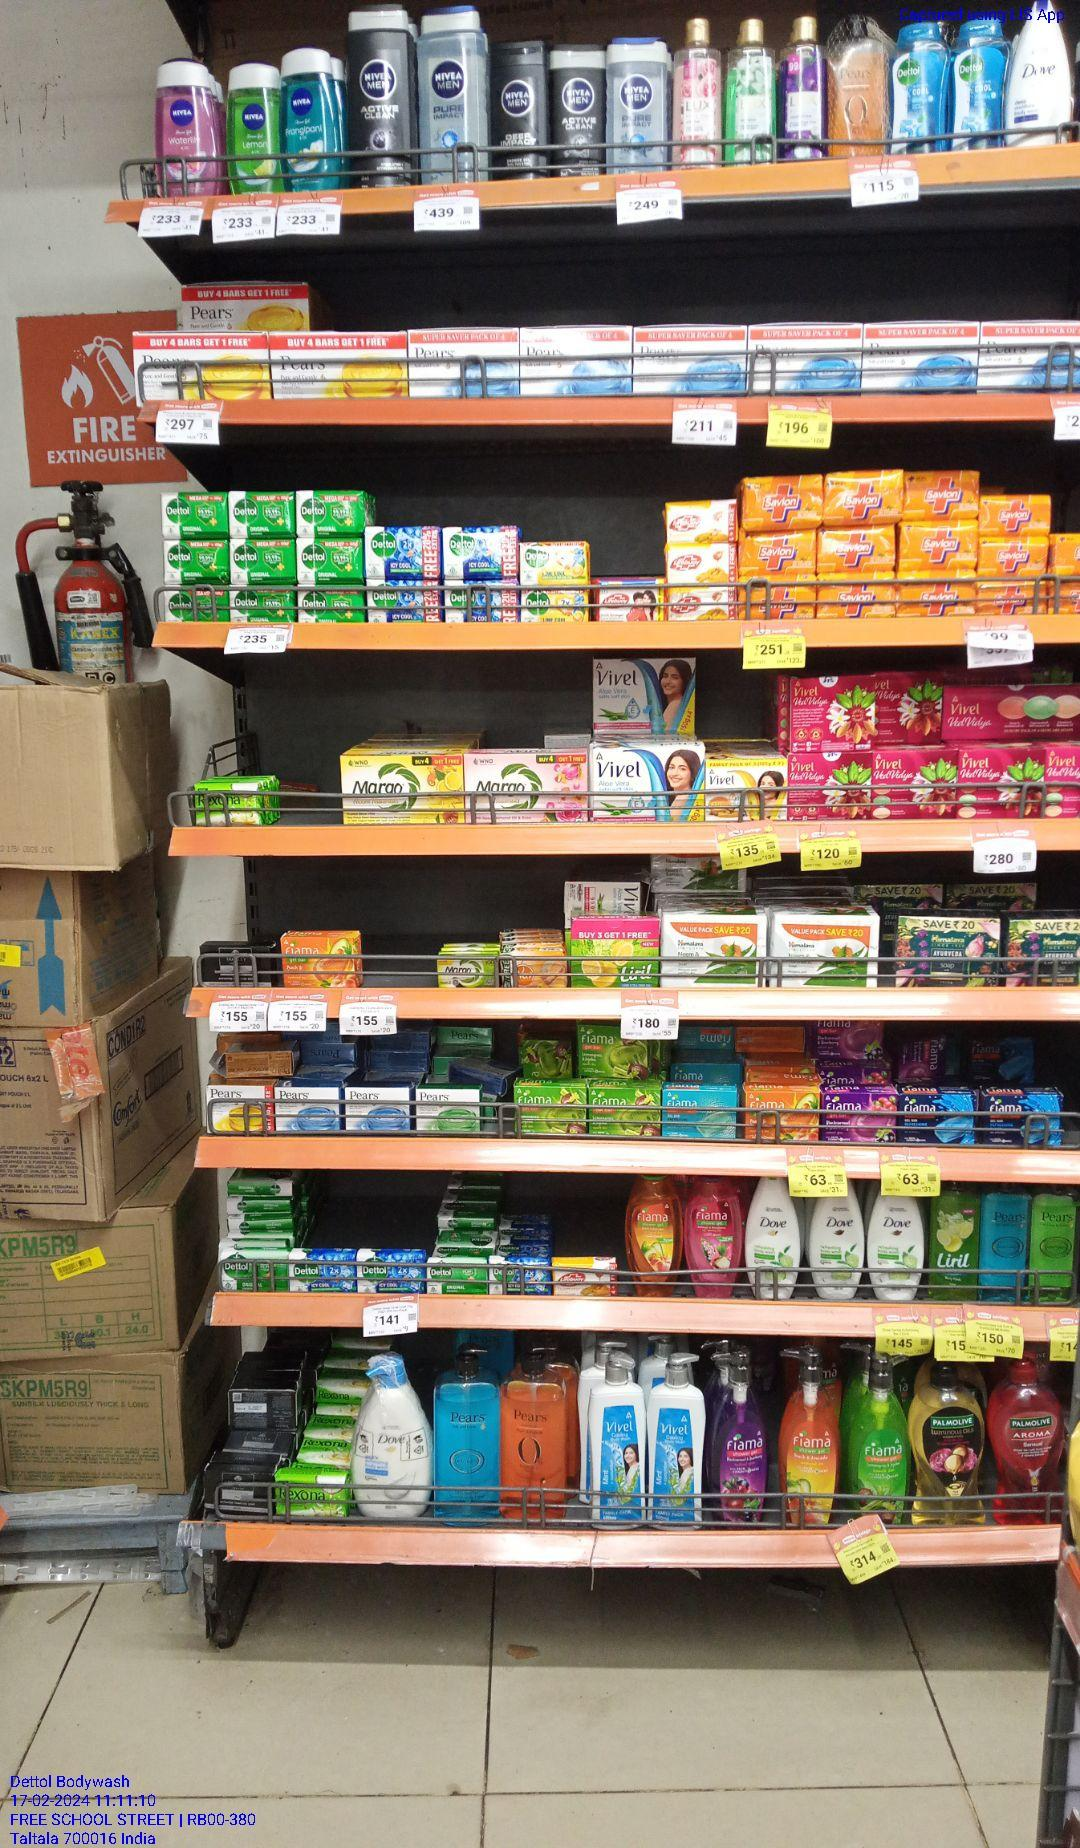Dettol_Bodywash_Cool: (890, 26, 946, 152), (953, 21, 1004, 148)
Lux_Black_Orchid_Scent_and_Juniper_Oil_Body_Wash_245ML: (782, 17, 829, 158)
Lux_Body_Wash_Skin_Detox_Freesia_Scent_and_Alove_Vera_245ML: (723, 17, 777, 159)
Nivea_Shower_Gel_Frangipani_and_Oil_250ML: (283, 48, 338, 189)
Nivea_Shower_Gel_Lemon_and_Oil_250ML: (229, 66, 279, 193)
Nivea_Shower_Gel_Waterlily_and_Oil_250ML: (156, 57, 213, 195)
